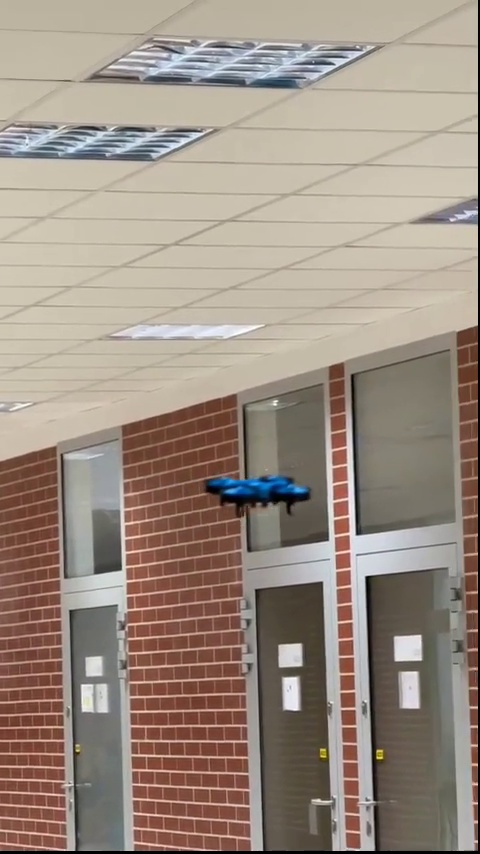drone: (198, 467, 303, 514)
